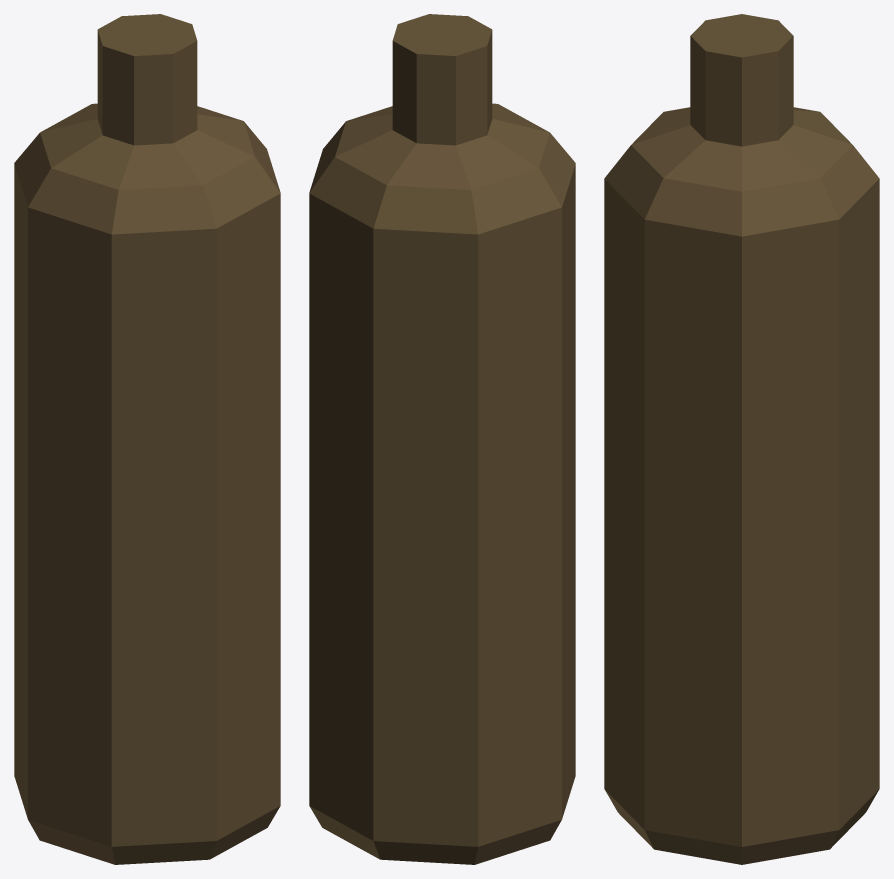
Rendered from ITFO_WATER.OBJ.
The picture shows the model from 3 angles, left to right: view 1: azimuth 30°, elevation 25°; view 2: azimuth 150°, elevation 25°; view 3: azimuth 270°, elevation 25°; orthographic projection.
Parts seen in each view (by area): view 1: ITFO_WATER; view 2: ITFO_WATER; view 3: ITFO_WATER.
Boxes of the visible parts, box(x1,y1,x2,y2) form: ITFO_WATER: box(14, 14, 280, 864); ITFO_WATER: box(309, 14, 575, 864); ITFO_WATER: box(604, 14, 879, 864).
Size of the model in its own units: 0.11 by 0.3425 by 0.11.
